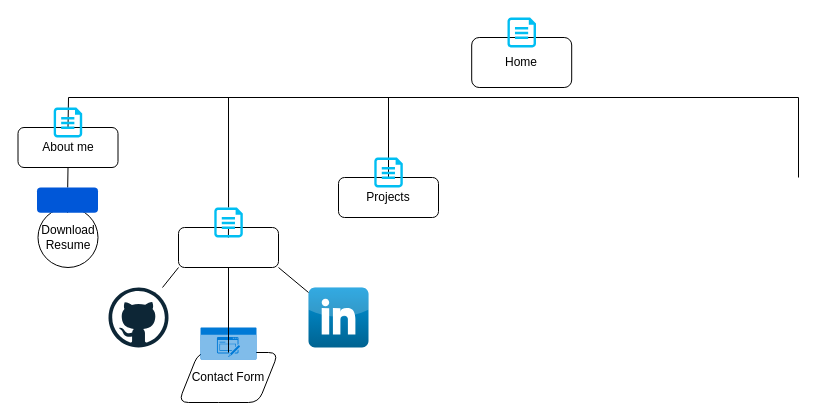
This 817x420 diagram has some shape labels left out. Here are the shapes that lost their labels. From the top down, the box of each, then its label:
(36, 187, 98, 212): Download
(178, 226, 278, 268): Contact me
(200, 327, 256, 359): Form
